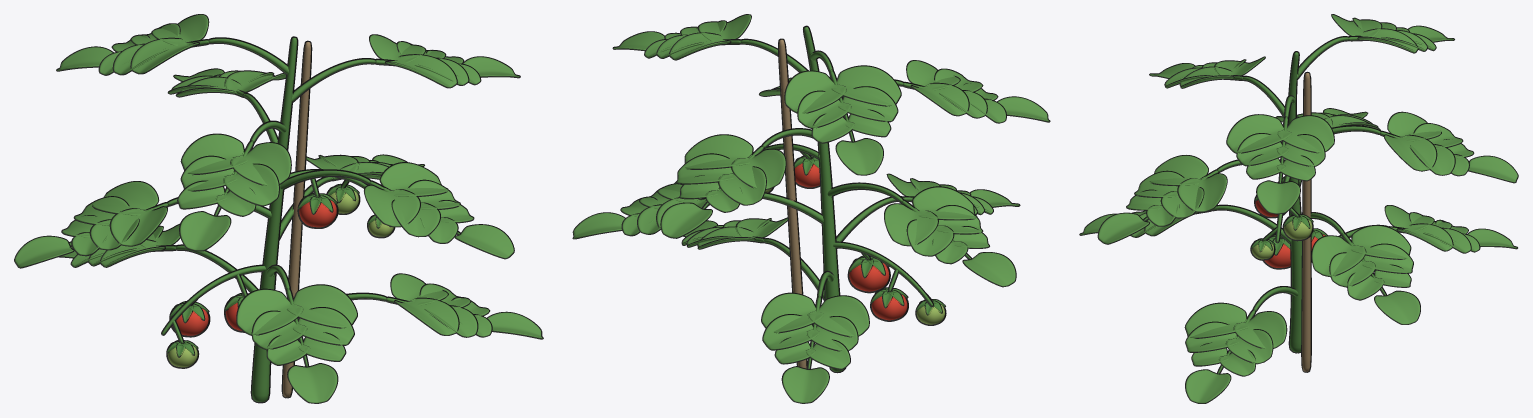
Rendered from tomatogrown.fbx.
3 views of the same model, side by side, from view 1: azimuth 30°, elevation 25°; view 2: azimuth 150°, elevation 25°; view 3: azimuth 270°, elevation 25° (orthographic). The views are drawn at different scales.
Visible parts, largest first — view 1: Tomato_Leaflets, Tomato_Stems, Tomato_Stake, Tomato_Calyx, Tomato_Fruit_Ripe, Tomato_Trusses, Tomato_Fruit_Unripe; view 2: Tomato_Leaflets, Tomato_Stems, Tomato_Stake, Tomato_Fruit_Ripe, Tomato_Calyx, Tomato_Trusses, Tomato_Fruit_Unripe; view 3: Tomato_Leaflets, Tomato_Stems, Tomato_Stake, Tomato_Fruit_Unripe, Tomato_Calyx, Tomato_Fruit_Ripe.
Boxes of the visible parts, x1,y1,x2,y2 form: Tomato_Leaflets: (14, 14, 543, 403); Tomato_Stems: (69, 36, 461, 403); Tomato_Stake: (281, 40, 312, 398); Tomato_Calyx: (166, 183, 390, 357); Tomato_Fruit_Ripe: (169, 193, 338, 337); Tomato_Trusses: (161, 169, 368, 342); Tomato_Fruit_Unripe: (166, 185, 395, 368); Tomato_Leaflets: (572, 14, 1050, 403); Tomato_Stems: (697, 25, 972, 373); Tomato_Stake: (778, 38, 807, 368); Tomato_Fruit_Ripe: (794, 156, 908, 321); Tomato_Calyx: (794, 155, 945, 315); Tomato_Trusses: (764, 143, 934, 307); Tomato_Fruit_Unripe: (765, 187, 946, 325); Tomato_Leaflets: (1079, 14, 1518, 403); Tomato_Stems: (1142, 35, 1407, 373); Tomato_Stake: (1301, 71, 1311, 372); Tomato_Fruit_Unripe: (1250, 214, 1313, 260); Tomato_Calyx: (1251, 196, 1327, 255); Tomato_Fruit_Ripe: (1254, 195, 1325, 269).
Bounding box in the file's own units: 469 × 355 × 440.
